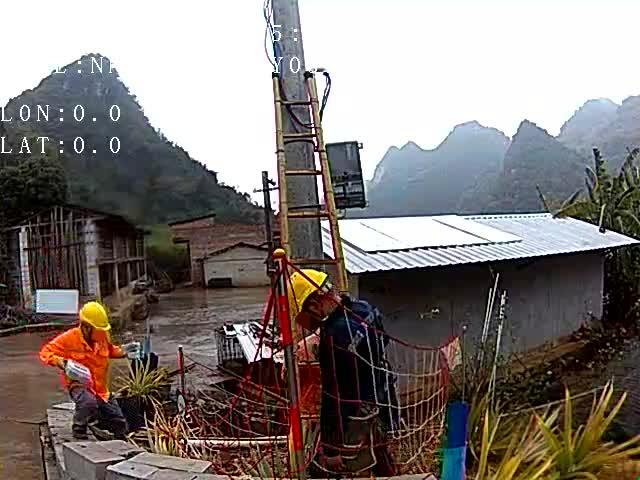halt: (290, 270, 346, 326), (81, 304, 114, 345)
inear: (308, 299, 326, 322)
